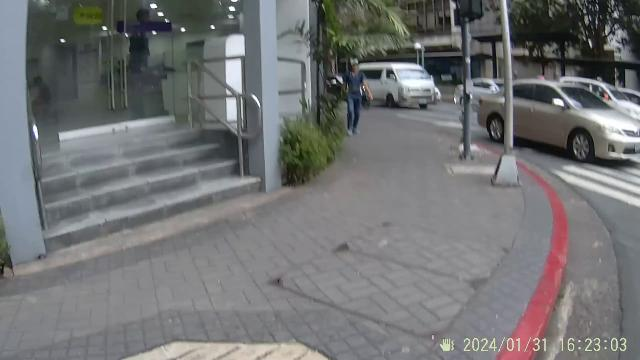car: (501, 77, 639, 167)
utility_post: (489, 0, 519, 192)
